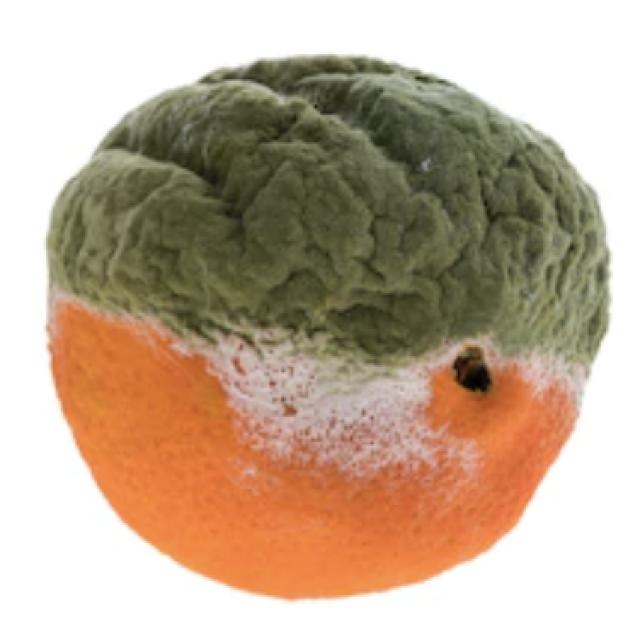sangat_busuk: (38, 51, 610, 605)
